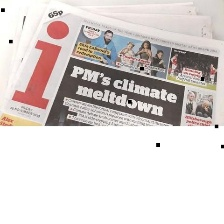news_paper: (1, 0, 224, 125)
